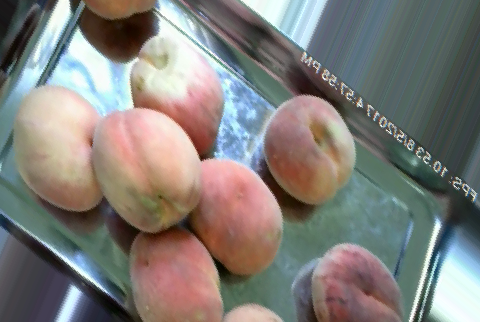Peach: (92, 105, 199, 233), (184, 158, 283, 275), (14, 83, 105, 210), (123, 32, 221, 145), (265, 96, 358, 202), (124, 229, 224, 322), (309, 242, 406, 322)
